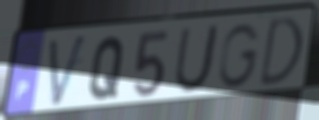5: (129, 27, 173, 99)
D: (257, 14, 306, 91)
G: (216, 22, 263, 91)
Q: (87, 34, 127, 102)
U: (172, 22, 222, 95)
V: (47, 31, 90, 111)
